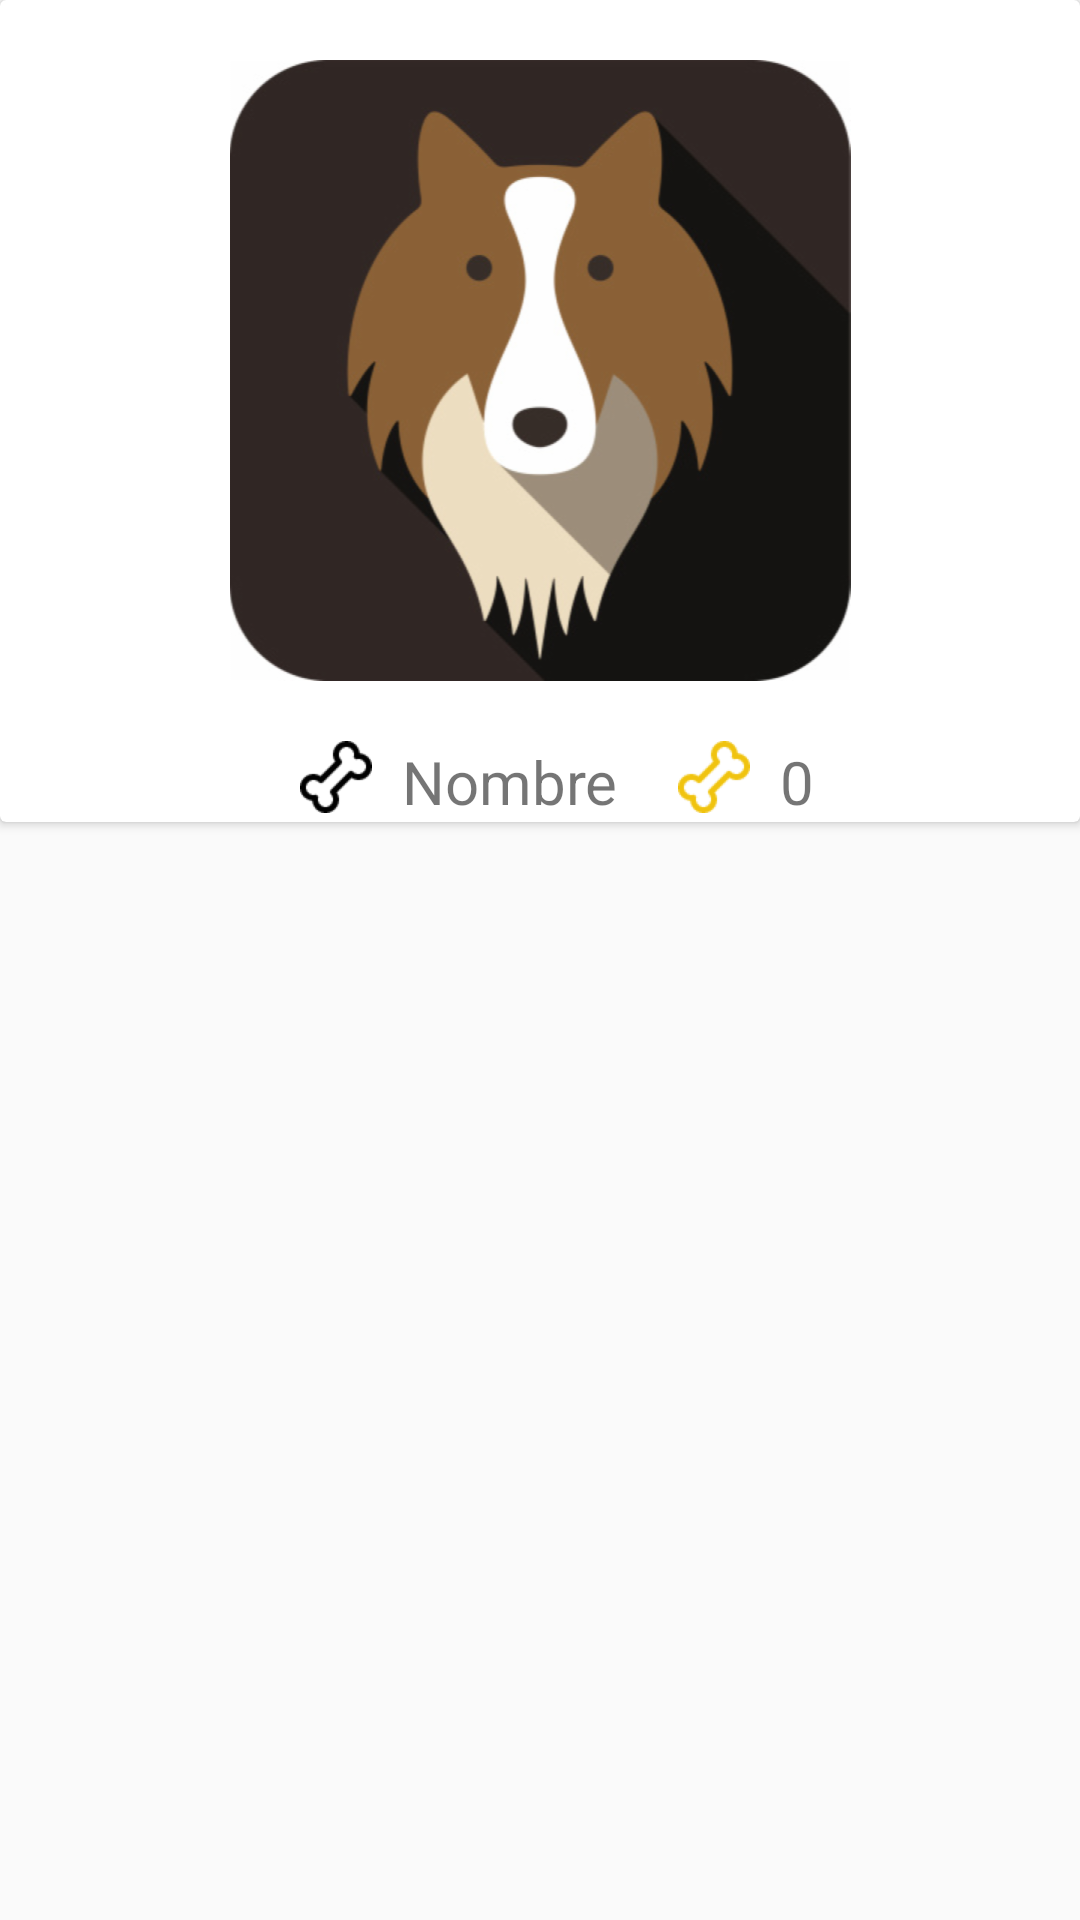

Named icons in this screenshot (1080 x 1920) and their bounding boxes, (x1,y1,x2,y2):
dog bone: (300,741,372,813)
